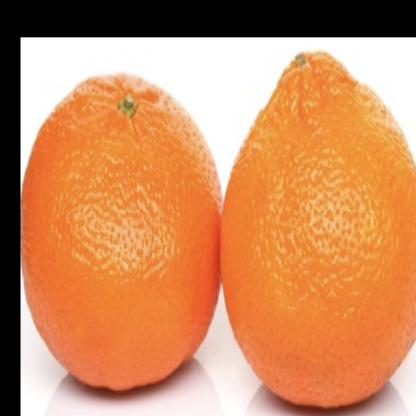fresh: (16, 44, 388, 416)
